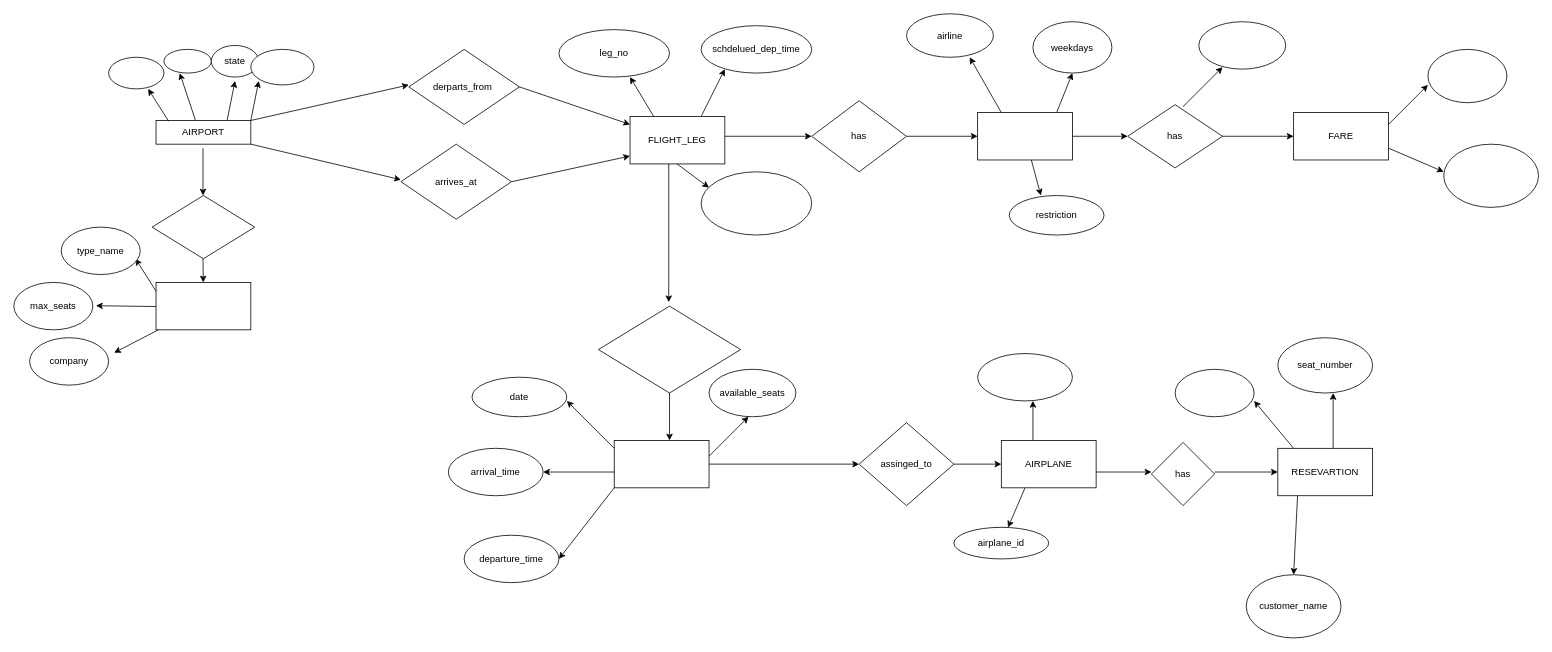
This 1552x652 diagram has some shape labels left out. Here are the shapes that lost their labels. From the top down, the box of each, then its label:
(163, 49, 211, 73): city
(1198, 21, 1286, 69): flight_no
(108, 56, 164, 89): airport code
(250, 49, 314, 85): name
(1427, 49, 1507, 103): code
(977, 112, 1072, 160): FLIGHT
(1443, 143, 1539, 207): amount
(700, 171, 812, 235): scheduled_arrive_time
(151, 195, 255, 259): allows
(155, 282, 251, 330): AIRPLANE_TYPE
(598, 305, 741, 393): is_instance_of
(977, 353, 1072, 401): total_seats
(1174, 369, 1254, 417): phone
(613, 440, 709, 488): LEG_INSATNCE
